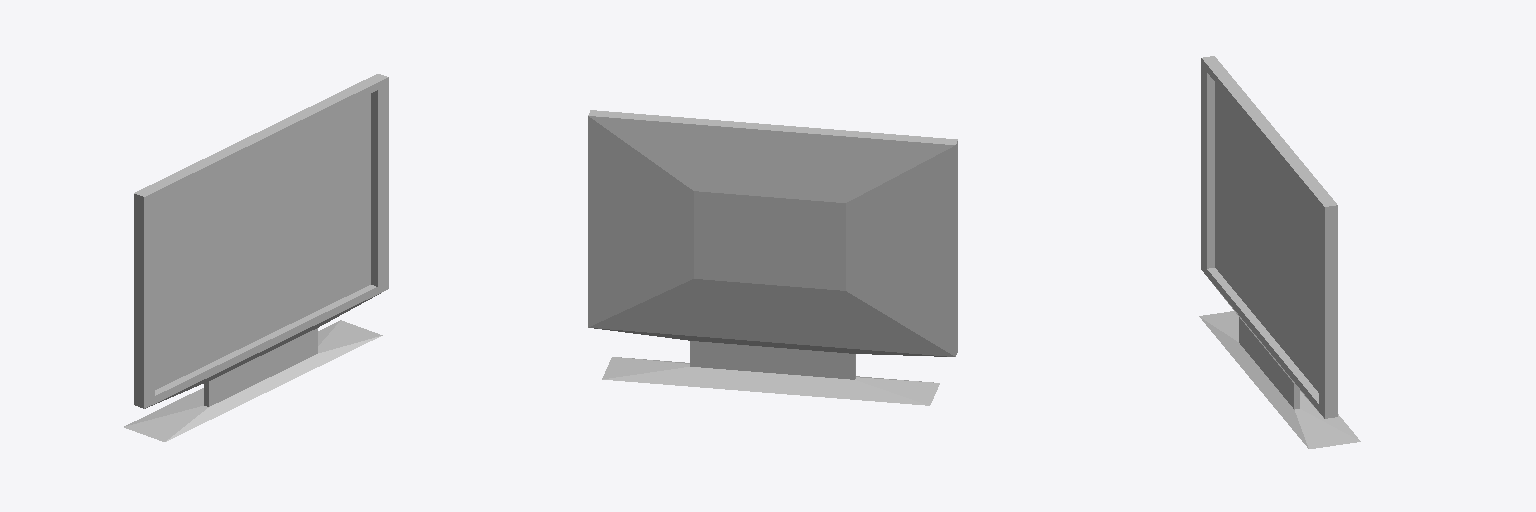
Rendered from Computador.obj.
3 renders of one model, left to right at view 1: azimuth 30°, elevation 25°; view 2: azimuth 150°, elevation 25°; view 3: azimuth 270°, elevation 25°, orthographic.
Visible parts, largest first — view 1: Cubo.002; view 2: Cubo.002; view 3: Cubo.002.
Boxes of the visible parts, x1,y1,x2,y2 form: Cubo.002: [124, 74, 388, 441]; Cubo.002: [588, 110, 957, 405]; Cubo.002: [1199, 56, 1360, 448].
Size of the model in its own units: 0.7651 by 0.5875 by 0.3473.